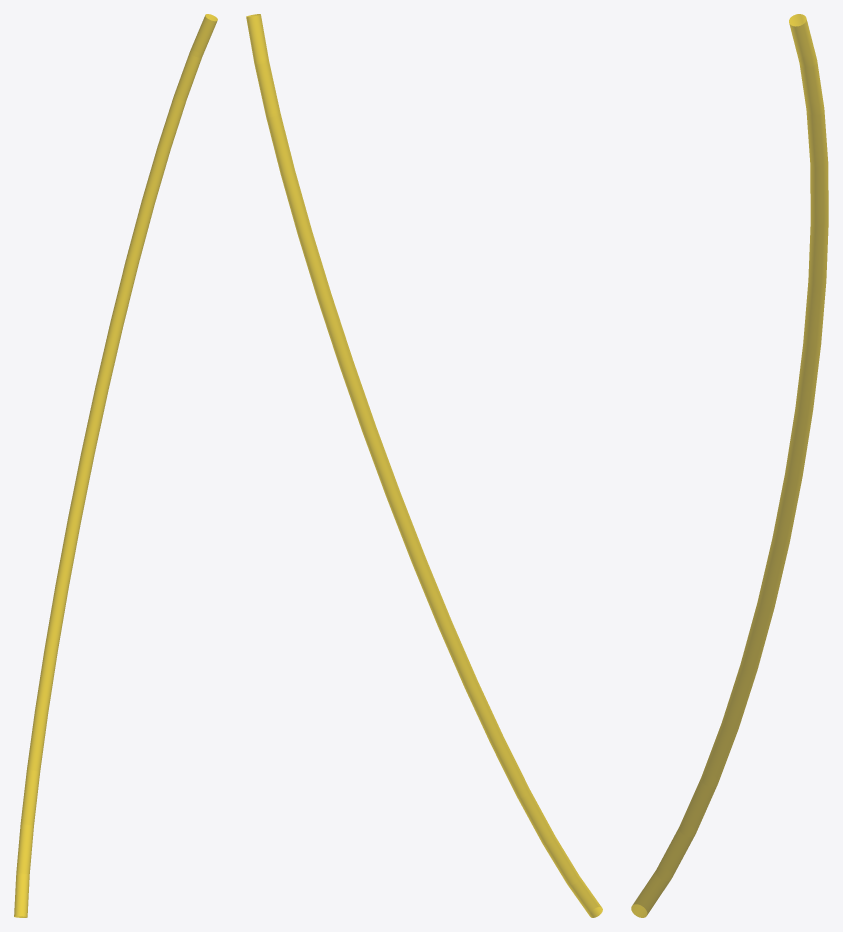
The model's file is Event_100608114_track_25.fbx.
3 views of the same model, side by side, from view 1: azimuth 30°, elevation 25°; view 2: azimuth 150°, elevation 25°; view 3: azimuth 270°, elevation 25° (orthographic). The views are drawn at different scales.
Parts seen in each view (by area): view 1: Model; view 2: Model; view 3: Model.
Boxes of the visible parts, bbox=[...] form: Model: bbox=[14, 14, 217, 917]; Model: bbox=[246, 14, 602, 917]; Model: bbox=[631, 14, 828, 917].
Size of the model in its own units: 0.8881 by 2.59 by 0.4383.
